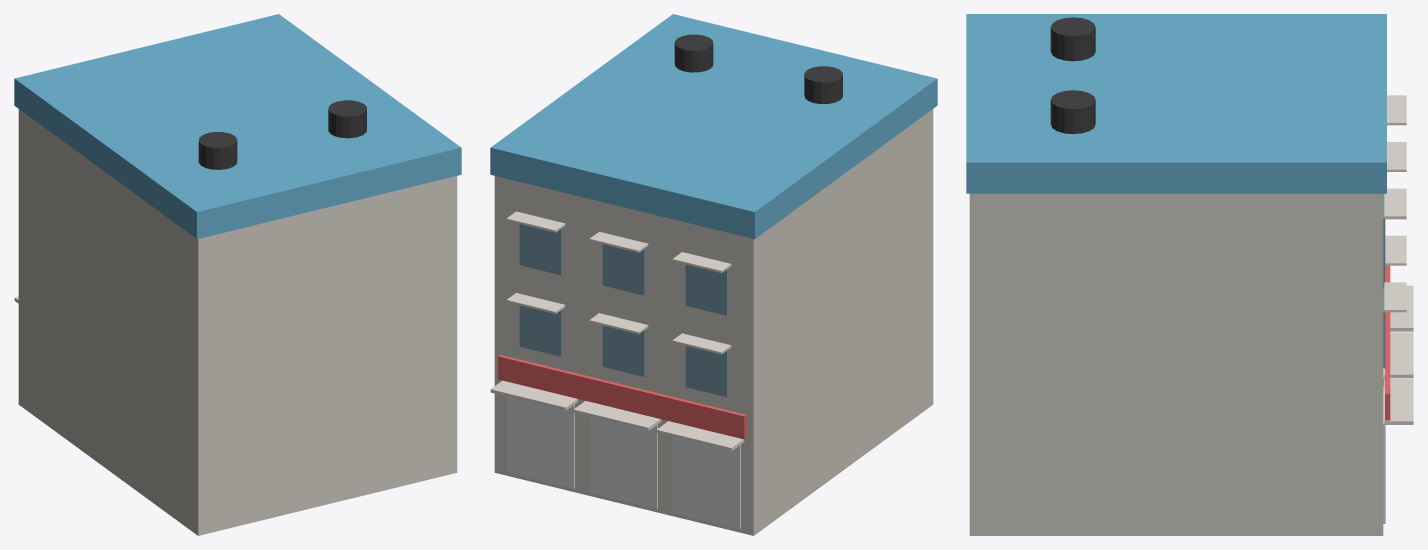
File: Commercial_Bazaar.fbx
The picture shows the model from 3 angles, left to right: view 1: azimuth 30°, elevation 25°; view 2: azimuth 150°, elevation 25°; view 3: azimuth 270°, elevation 25°; orthographic projection. The views are drawn at different scales.
Visible parts, largest first — view 1: CSVS_Karaikal_Commercial_Bazaar; view 2: CSVS_Karaikal_Commercial_Bazaar; view 3: CSVS_Karaikal_Commercial_Bazaar.
Part boxes in pixels (x1=…): CSVS_Karaikal_Commercial_Bazaar: x1=14, y1=14, x2=461, y2=535; CSVS_Karaikal_Commercial_Bazaar: x1=490, y1=14, x2=937, y2=535; CSVS_Karaikal_Commercial_Bazaar: x1=966, y1=14, x2=1413, y2=535.
Size of the model in its own units: 10.2 by 12.8 by 12.97.
